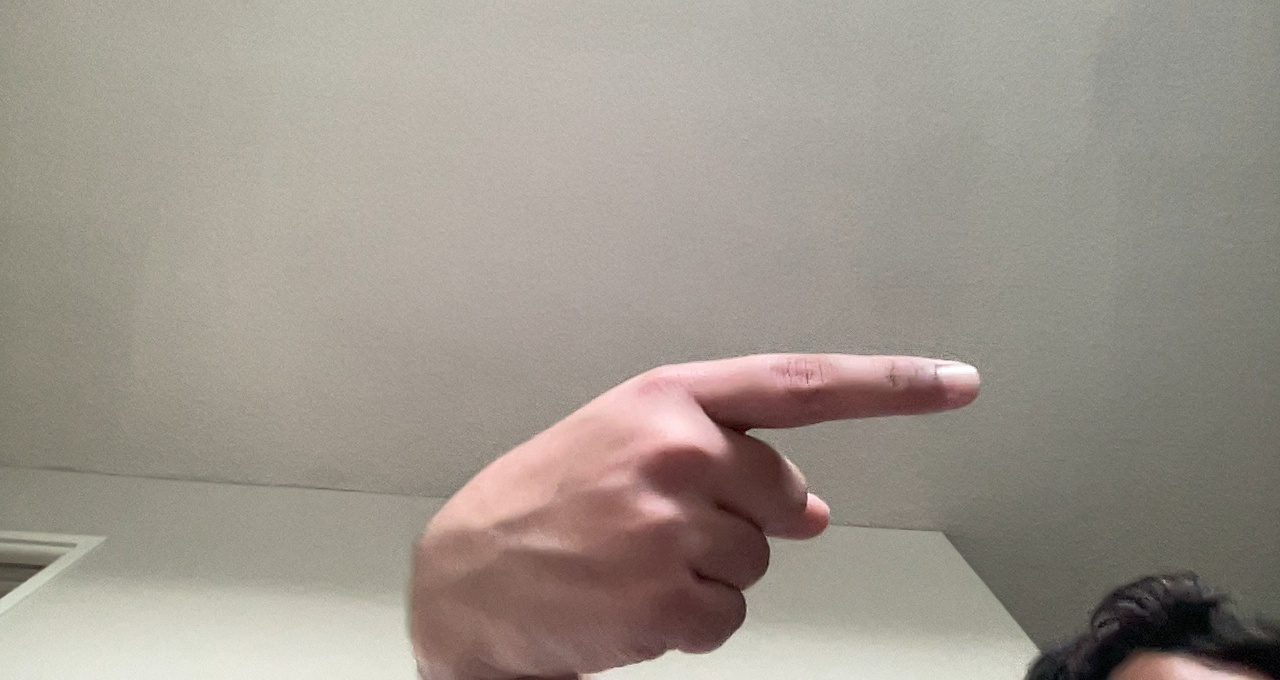fingerleft: (414, 341, 954, 676)
